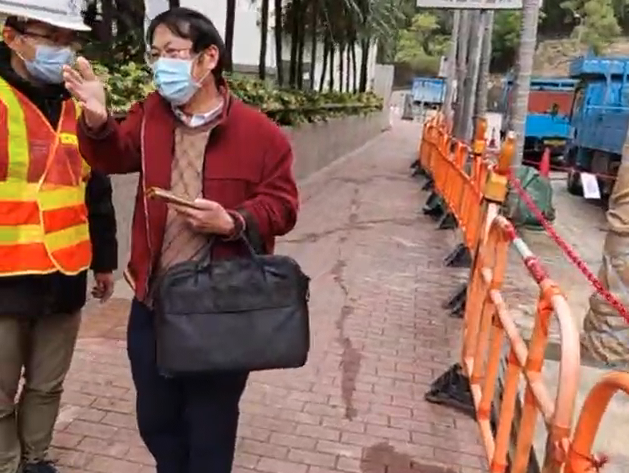Hard Hat: (6, 3, 92, 86)
Person: (110, 10, 301, 468), (3, 4, 115, 470)
Vest: (4, 34, 99, 276)
